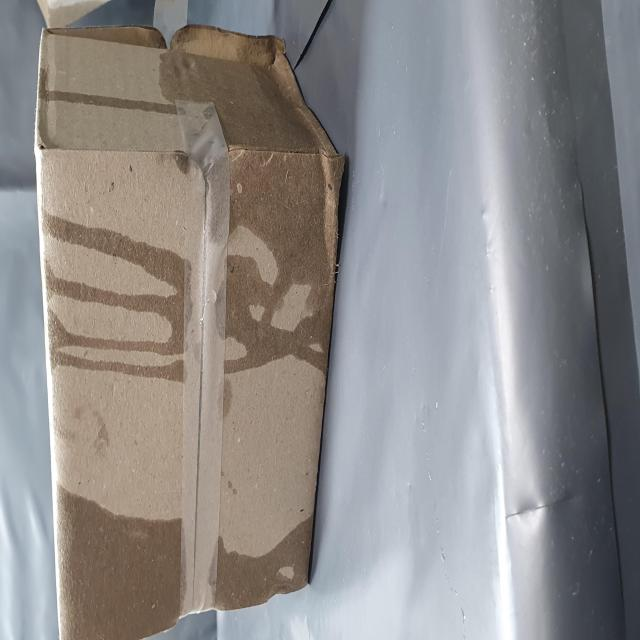wet: (150, 80, 343, 603), (2, 99, 87, 568)
